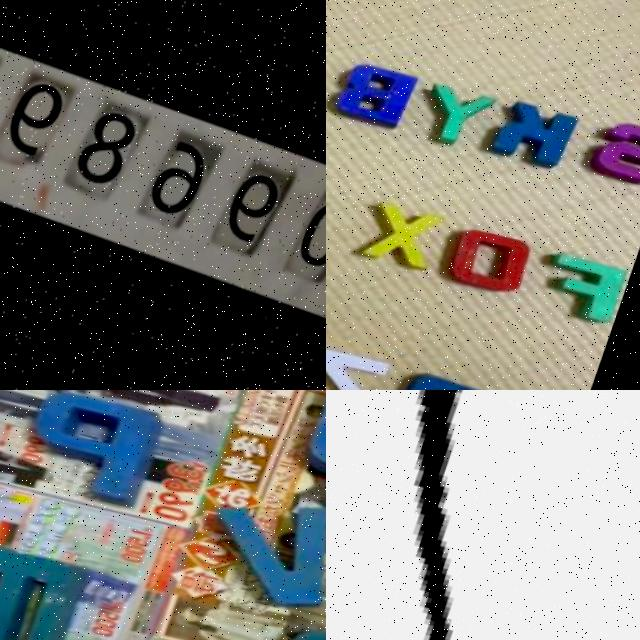0: (291, 186, 326, 287)
6: (138, 125, 234, 236)
8: (67, 95, 160, 202)
9: (0, 64, 88, 172), (218, 157, 304, 258)
B: (329, 58, 422, 135)
D: (395, 367, 501, 390)
F: (546, 254, 634, 328)
J: (326, 390, 640, 640)
K: (492, 99, 582, 174)
M: (0, 526, 100, 640)
O: (441, 223, 541, 303)
P: (12, 390, 169, 510)
S: (593, 120, 640, 194)
V: (191, 483, 326, 622)
X: (360, 200, 449, 273)
Y: (417, 83, 499, 156)
Z: (326, 343, 402, 390)
